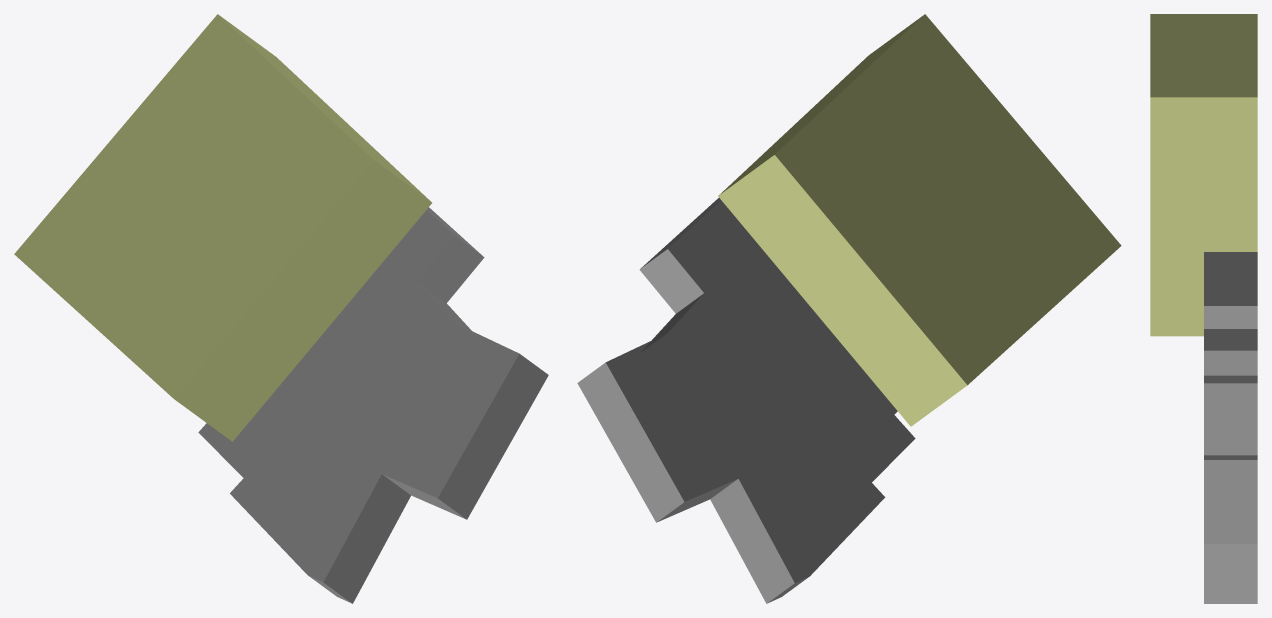
The picture shows the model from 3 angles, left to right: view 1: azimuth 30°, elevation 25°; view 2: azimuth 150°, elevation 25°; view 3: azimuth 270°, elevation 25°; orthographic projection. The views are drawn at different scales.
Visible parts, largest first — view 1: 0_1_0_2_0_0_0_0_3; view 2: 0_1_0_2_0_0_0_0_3; view 3: 0_1_0_2_0_0_0_0_3.
Part boxes in pixels (<box>): 0_1_0_2_0_0_0_0_3: <box>14,14,548,603</box>; 0_1_0_2_0_0_0_0_3: <box>577,14,1121,603</box>; 0_1_0_2_0_0_0_0_3: <box>1150,14,1257,603</box>.
Bounding box in the file's own units: 29.79 × 33.48 × 6.
